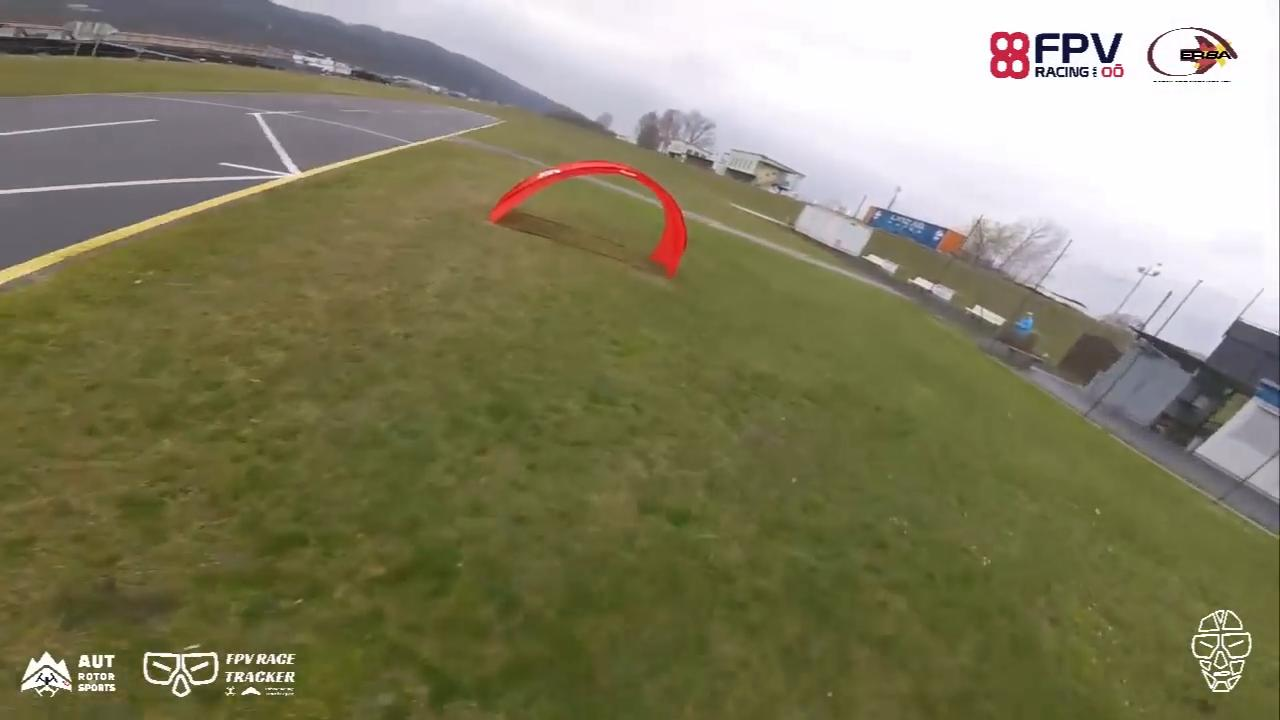gate: (483, 159, 687, 288)
